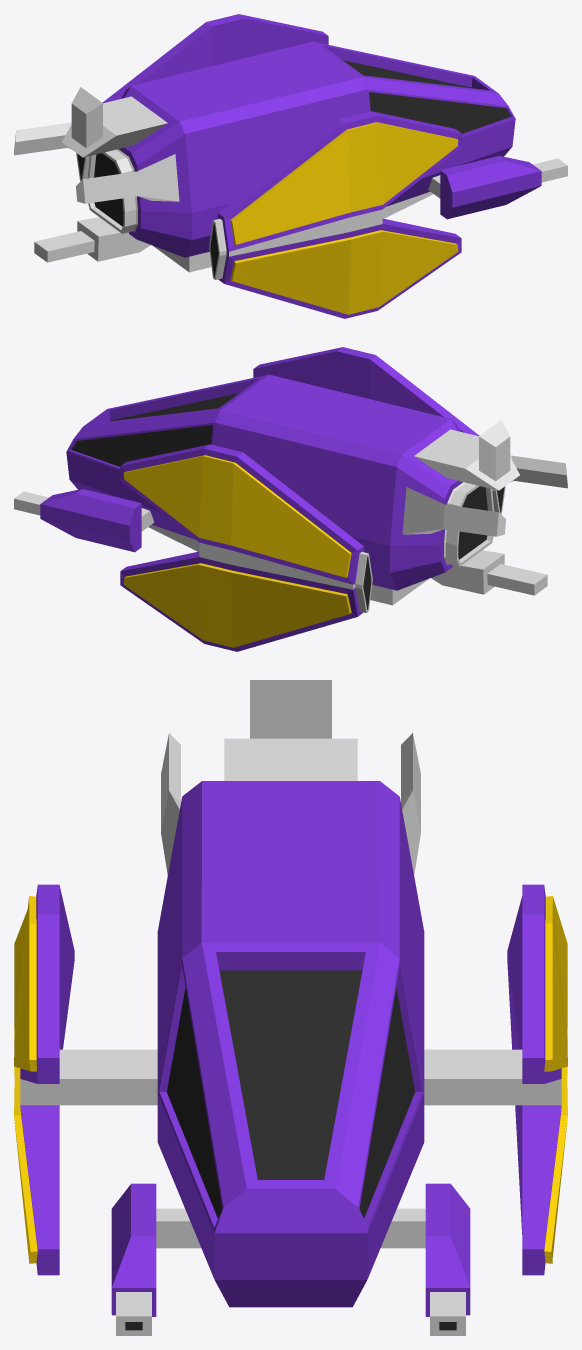
File: Space_Ship_3.fbx
The picture shows the model from 3 angles, top to bottom: view 1: azimuth 30°, elevation 25°; view 2: azimuth 150°, elevation 25°; view 3: azimuth 270°, elevation 25°; orthographic projection. The views are drawn at different scales.
Parts seen in each view (by area): view 1: Space_Ship.003; view 2: Space_Ship.003; view 3: Space_Ship.003.
Part boxes in pixels (x1=…): Space_Ship.003: x1=14, y1=14, x2=567, y2=318; Space_Ship.003: x1=14, y1=347, x2=567, y2=651; Space_Ship.003: x1=14, y1=680, x2=567, y2=1335.
Bounding box in the file's own units: 758 × 329 × 416.
